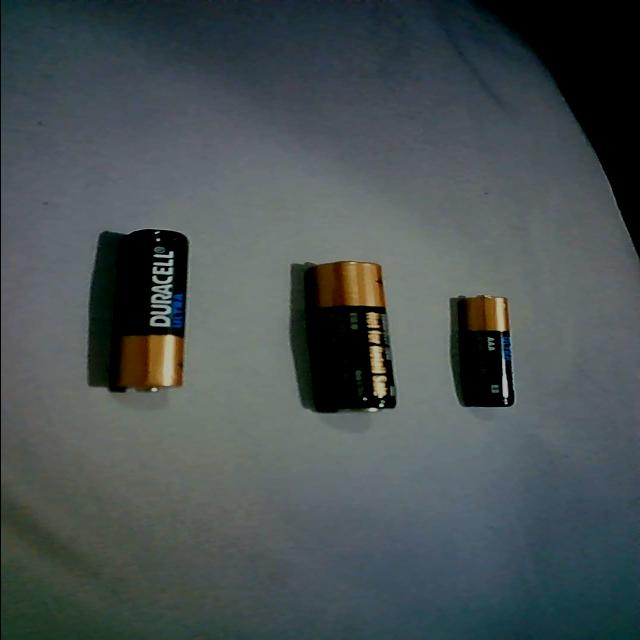AA: (303, 256, 403, 416)
AAA: (103, 224, 194, 398), (449, 292, 518, 412)
